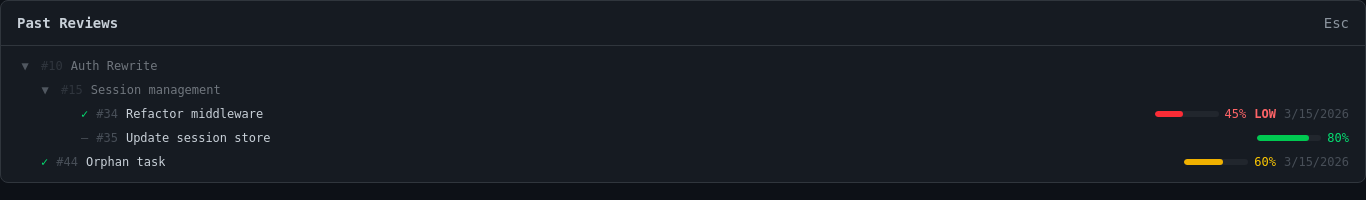
PastReviewsTree › collapses parent node and hides children
This screenshot has width=1366, height=200.
Expected: the text "Refactor middleware" is shown, [126,106,263,122]
Expected: the text "Update session store" is shown, [126,130,270,146]
Click the button named "Collapse" at (25, 66), box [17,58,33,74]
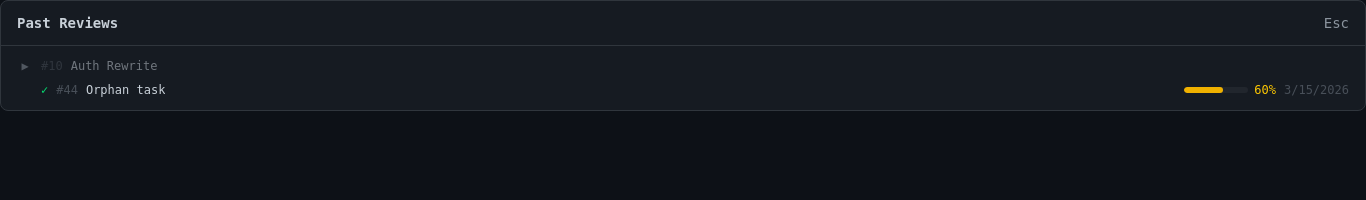
Expected: the text "Orphan task" is shown, [86,82,165,98]
Expected: the button "Refactor middleware" is gone
Expected: the button "Update session store" is gone
